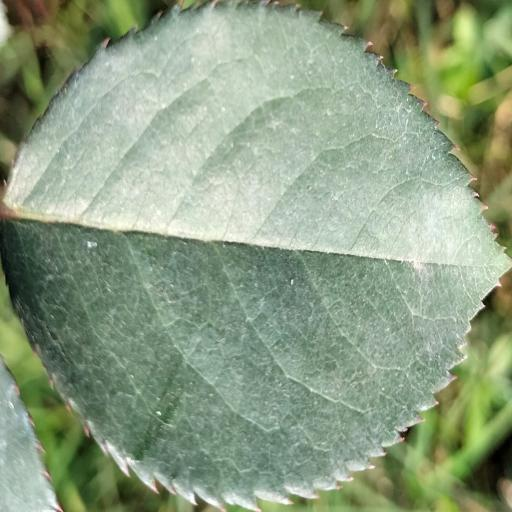healthy_leaf: (0, 2, 510, 509)
